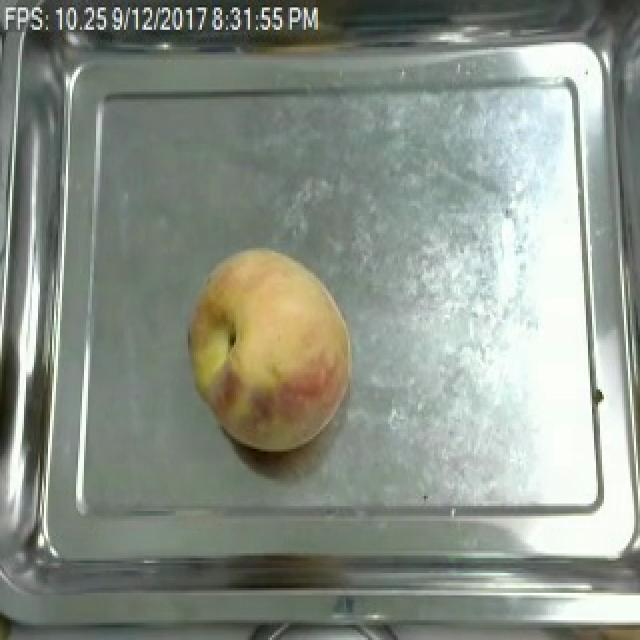Fruit: (180, 241, 362, 459)
